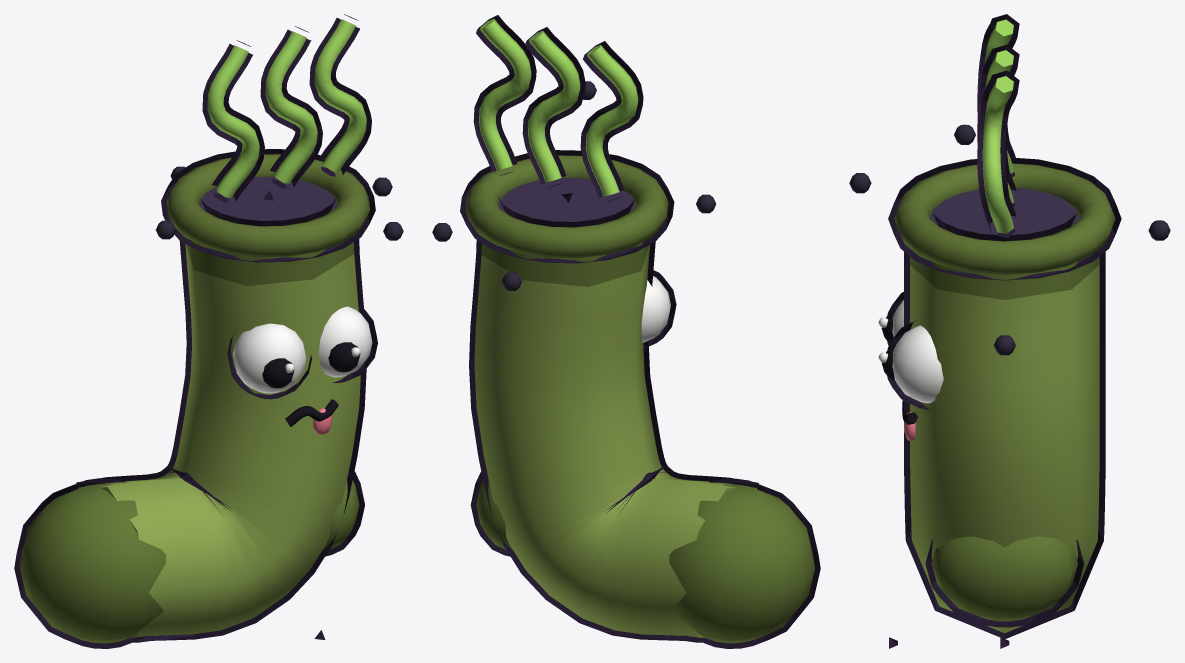
Rendered from Stinkolino_L.glb.
The picture shows the model from 3 angles, left to right: view 1: azimuth 30°, elevation 25°; view 2: azimuth 150°, elevation 25°; view 3: azimuth 270°, elevation 25°; orthographic projection. The views are drawn at different scales.
Visible parts, largest first — view 1: Stinkolino_L, Stinkolino_L_Outline; view 2: Stinkolino_L, Stinkolino_L_Outline; view 3: Stinkolino_L, Stinkolino_L_Outline.
Part boxes in pixels (x1,y1,x2,y2): Stinkolino_L: (20,19,403,643); Stinkolino_L_Outline: (14,14,377,648); Stinkolino_L: (432,18,814,643); Stinkolino_L_Outline: (460,15,820,648); Stinkolino_L: (849,19,1170,632); Stinkolino_L_Outline: (886,14,1121,638).
Size of the model in its own units: 4.21 by 6.25 by 2.88.
1 material, 1 textured.
